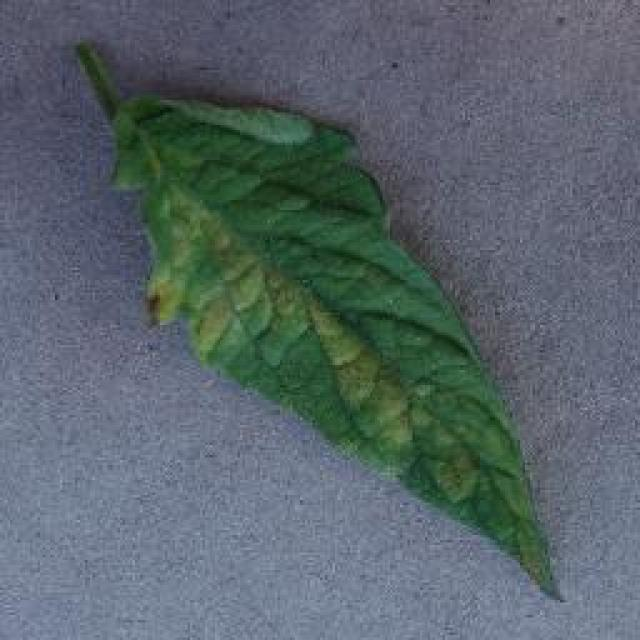leaf mold: (76, 37, 569, 610)
